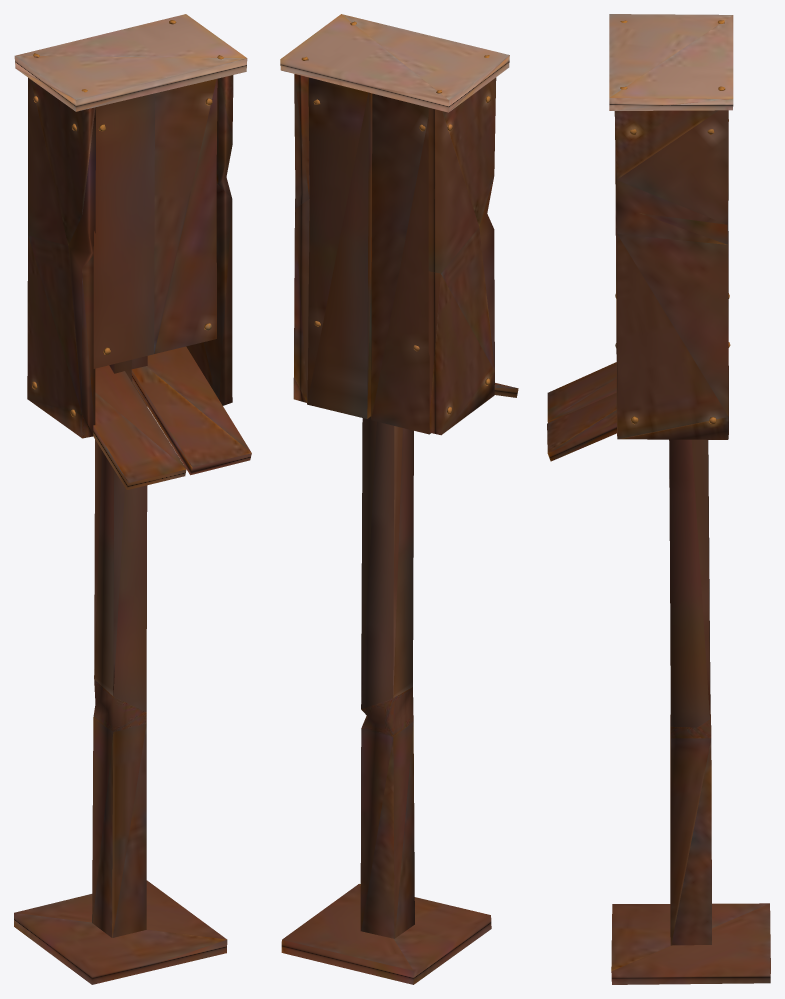
The model's file is bat-box.glb.
3 renders of one model, left to right at view 1: azimuth 30°, elevation 25°; view 2: azimuth 150°, elevation 25°; view 3: azimuth 270°, elevation 25°, orthographic. The views are drawn at different scales.
Parts seen in each view (by area): view 1: bat-box; view 2: bat-box; view 3: bat-box.
Part boxes in pixels (x1=…): bat-box: x1=14, y1=14, x2=251, y2=984; bat-box: x1=280, y1=14, x2=518, y2=984; bat-box: x1=547, y1=14, x2=770, y2=984.
Size of the model in its own units: 0.3216 by 1.6 by 0.3617.
1 material, 1 textured.
